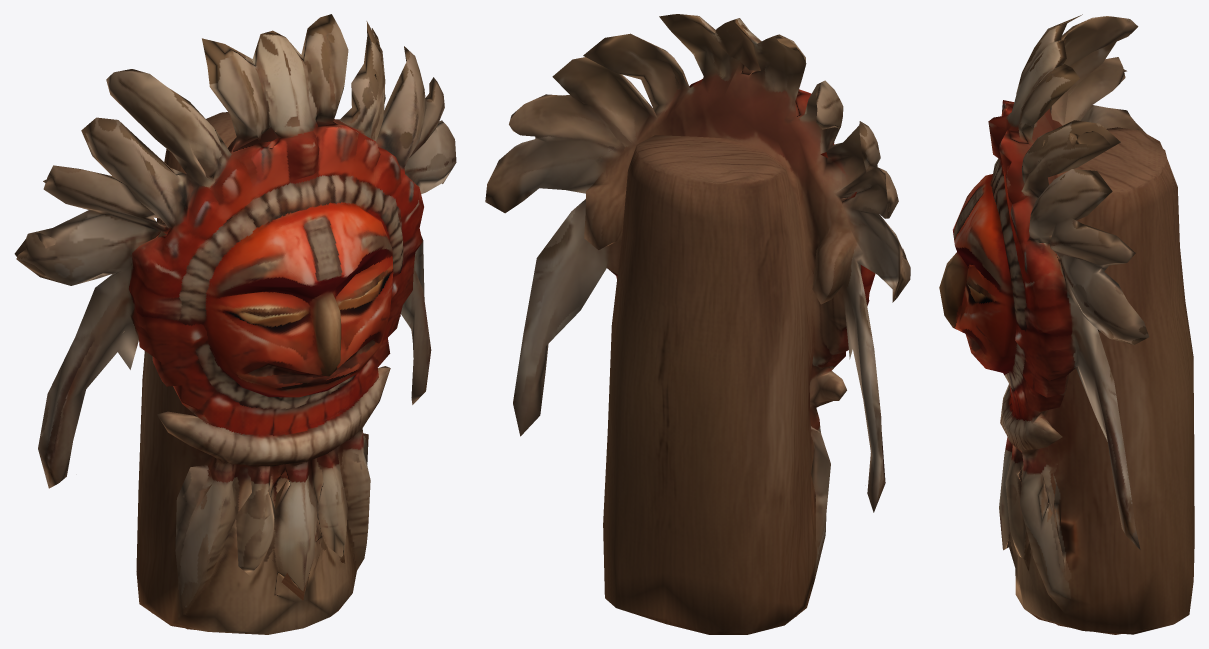
The model's file is totem_wrath.glb.
3 views of the same model, side by side, from view 1: azimuth 30°, elevation 25°; view 2: azimuth 150°, elevation 25°; view 3: azimuth 270°, elevation 25° (orthographic). The views are drawn at different scales.
Visible parts, largest first — view 1: geometry_0; view 2: geometry_0; view 3: geometry_0.
Part boxes in pixels (left/top/right/bottom): geometry_0: left=14, top=14, right=456, bottom=634; geometry_0: left=485, top=14, right=910, bottom=634; geometry_0: left=939, top=14, right=1194, bottom=634.
Bounding box in the file's own units: 0.7592 × 0.9876 × 0.4124.
Materials: 1 (1 with a texture image).
